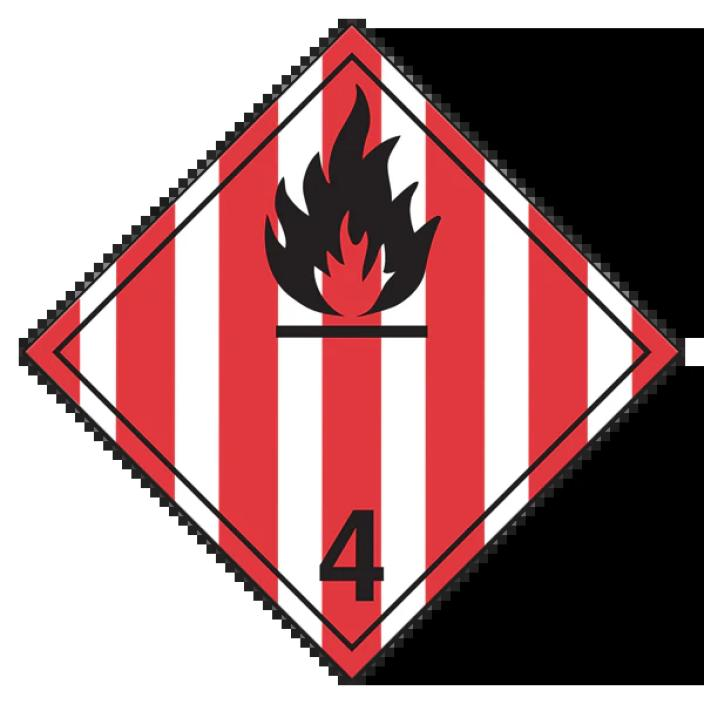chair: (12, 18, 696, 689)
